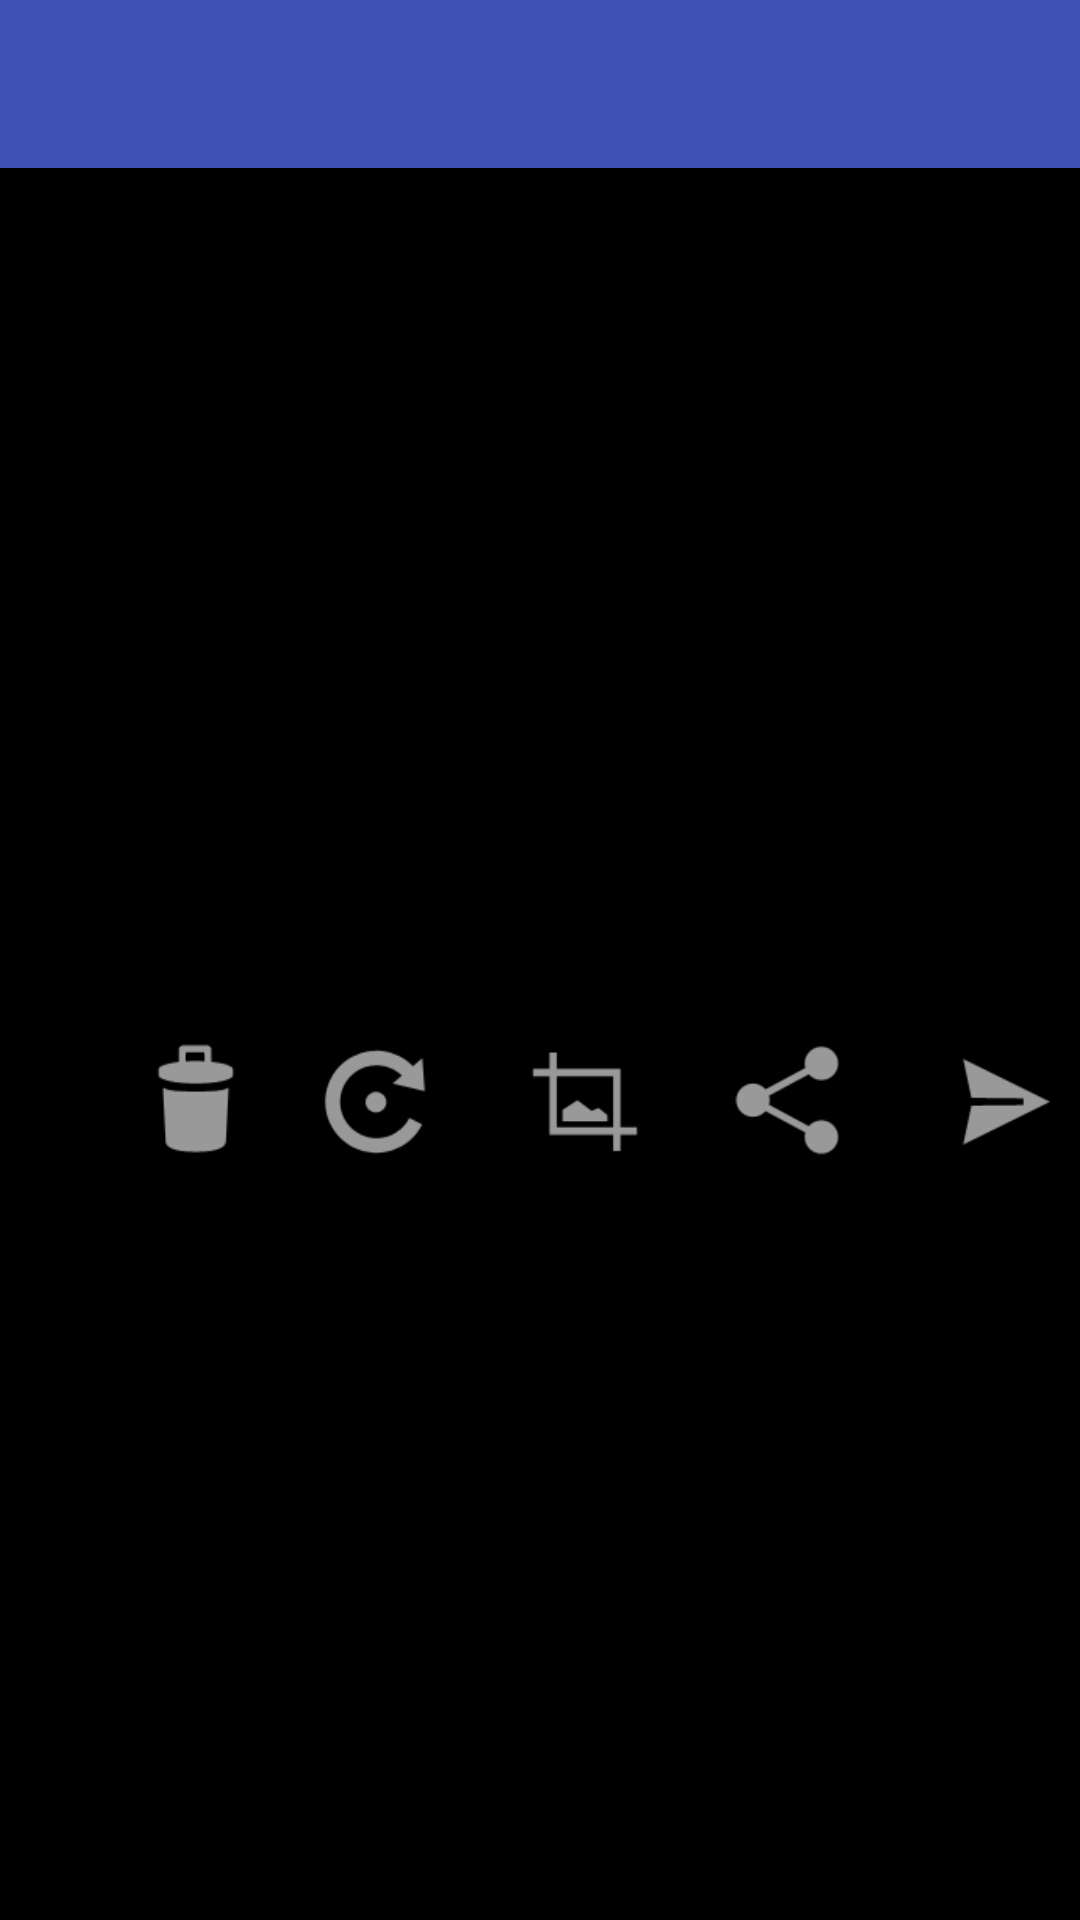

Where icons sit on this 1080 x 1920 app screen, as (x1, y1, x2, y2):
crop: (532, 1052, 638, 1152)
delete: (158, 1044, 234, 1153)
rotate: (325, 1050, 425, 1154)
send: (963, 1059, 1050, 1145)
share: (735, 1046, 839, 1155)
